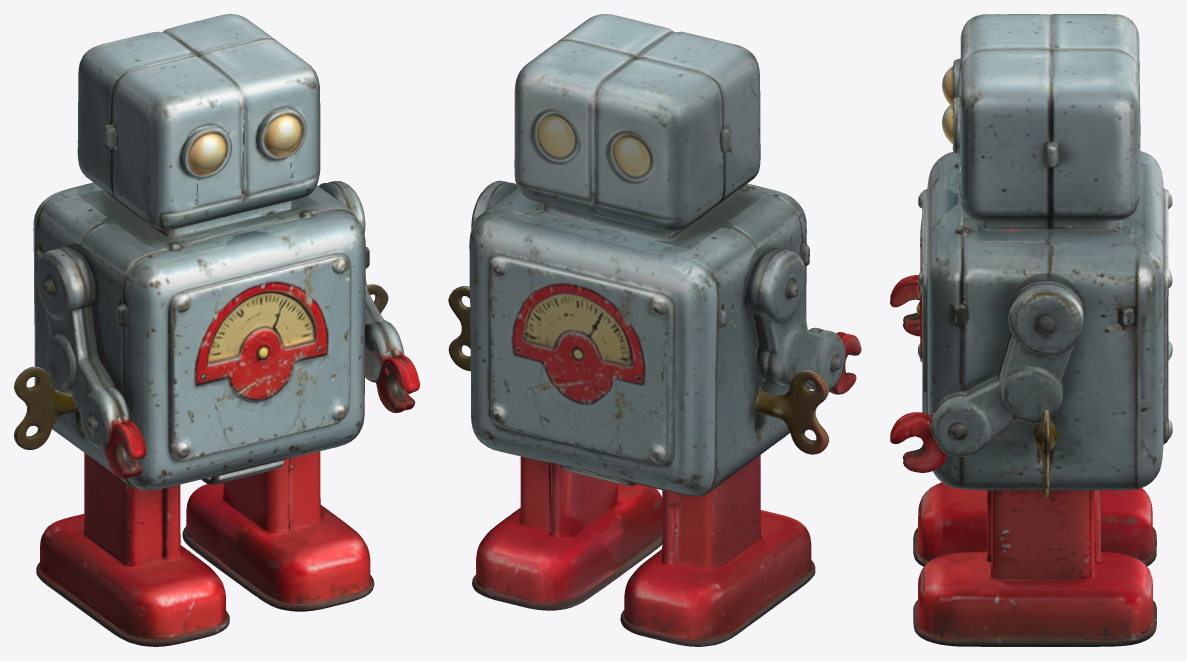
File: tin-robot.glb
3 views of the same model, side by side, from view 1: azimuth 30°, elevation 25°; view 2: azimuth 150°, elevation 25°; view 3: azimuth 270°, elevation 25° (orthographic). The views are drawn at different scales.
Parts seen in each view (by area): view 1: geometry_0; view 2: geometry_0; view 3: geometry_0.
Boxes of the visible parts, <box> form: geometry_0: <box>14,14,419,646</box>; geometry_0: <box>448,14,861,646</box>; geometry_0: <box>890,14,1172,646</box>.
Size of the model in its own units: 0.1123 by 0.15 by 0.0716.
1 material, 1 textured.
